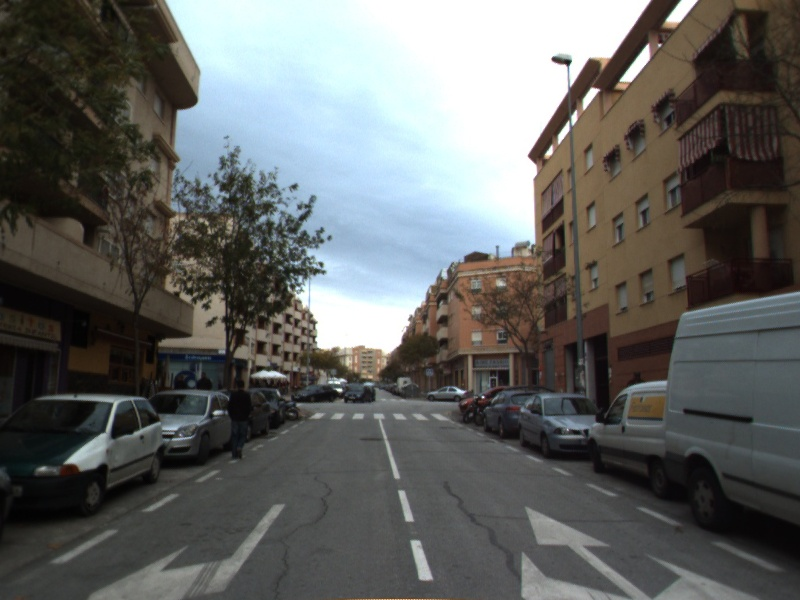STRAIGHT_LEFT_RIGHT: (516, 503, 770, 600)
